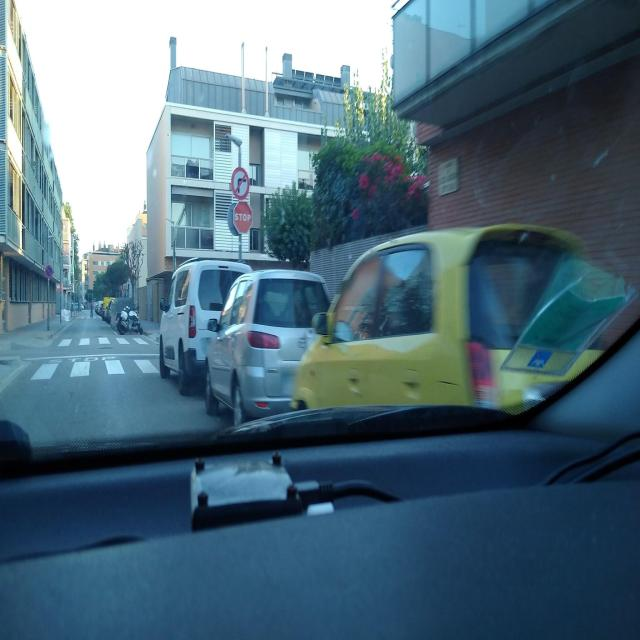forb_stopping: (45, 265, 54, 280)
